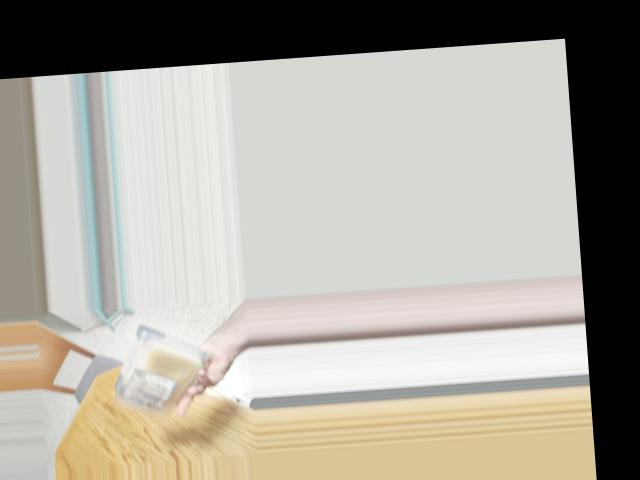cheese: (114, 337, 205, 414)
